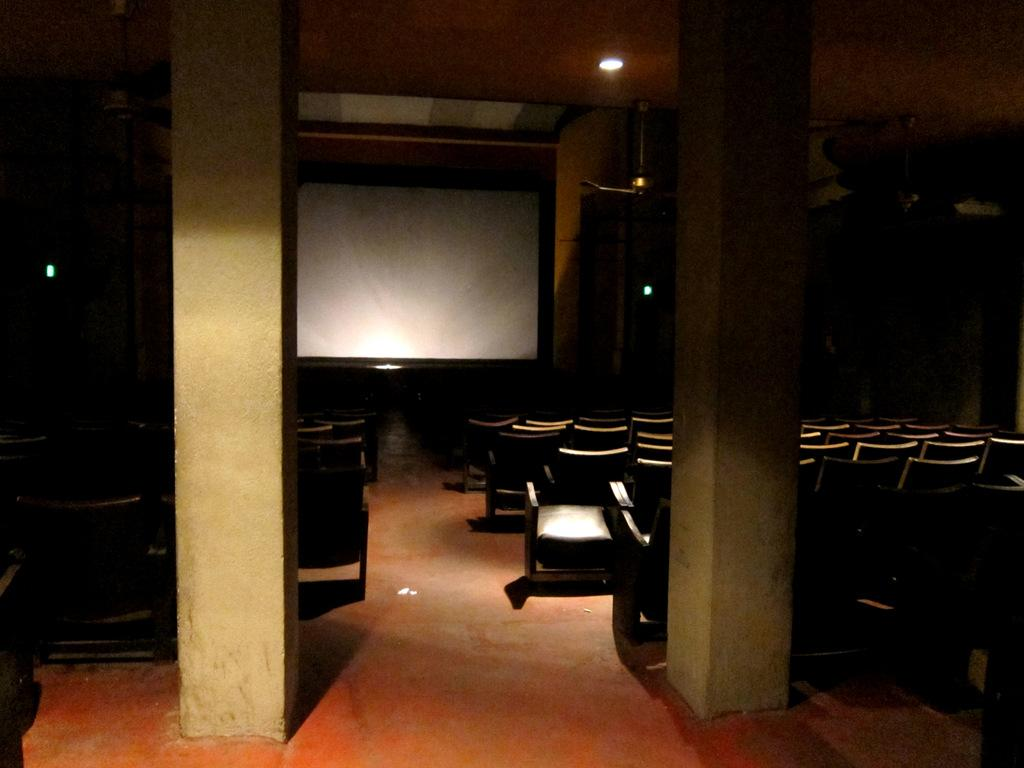Chair: (292, 438, 375, 573)
